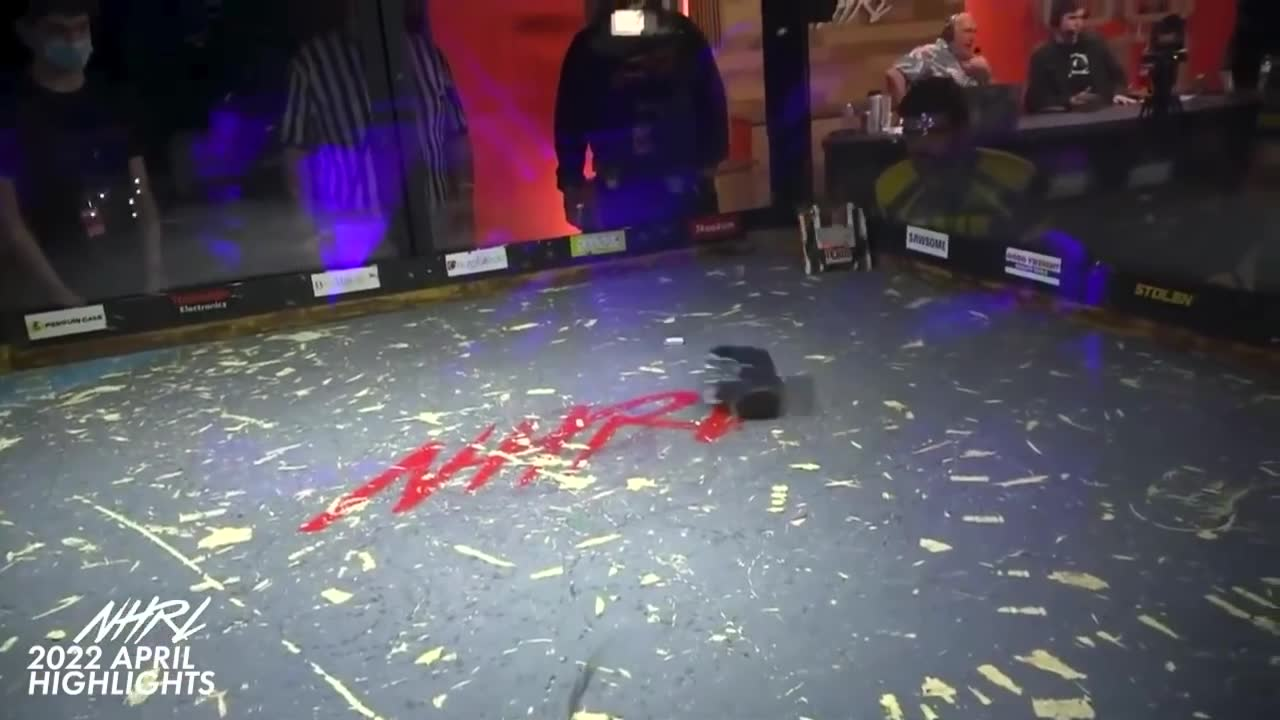combatbot: (701, 344, 783, 418), (797, 200, 874, 277)
